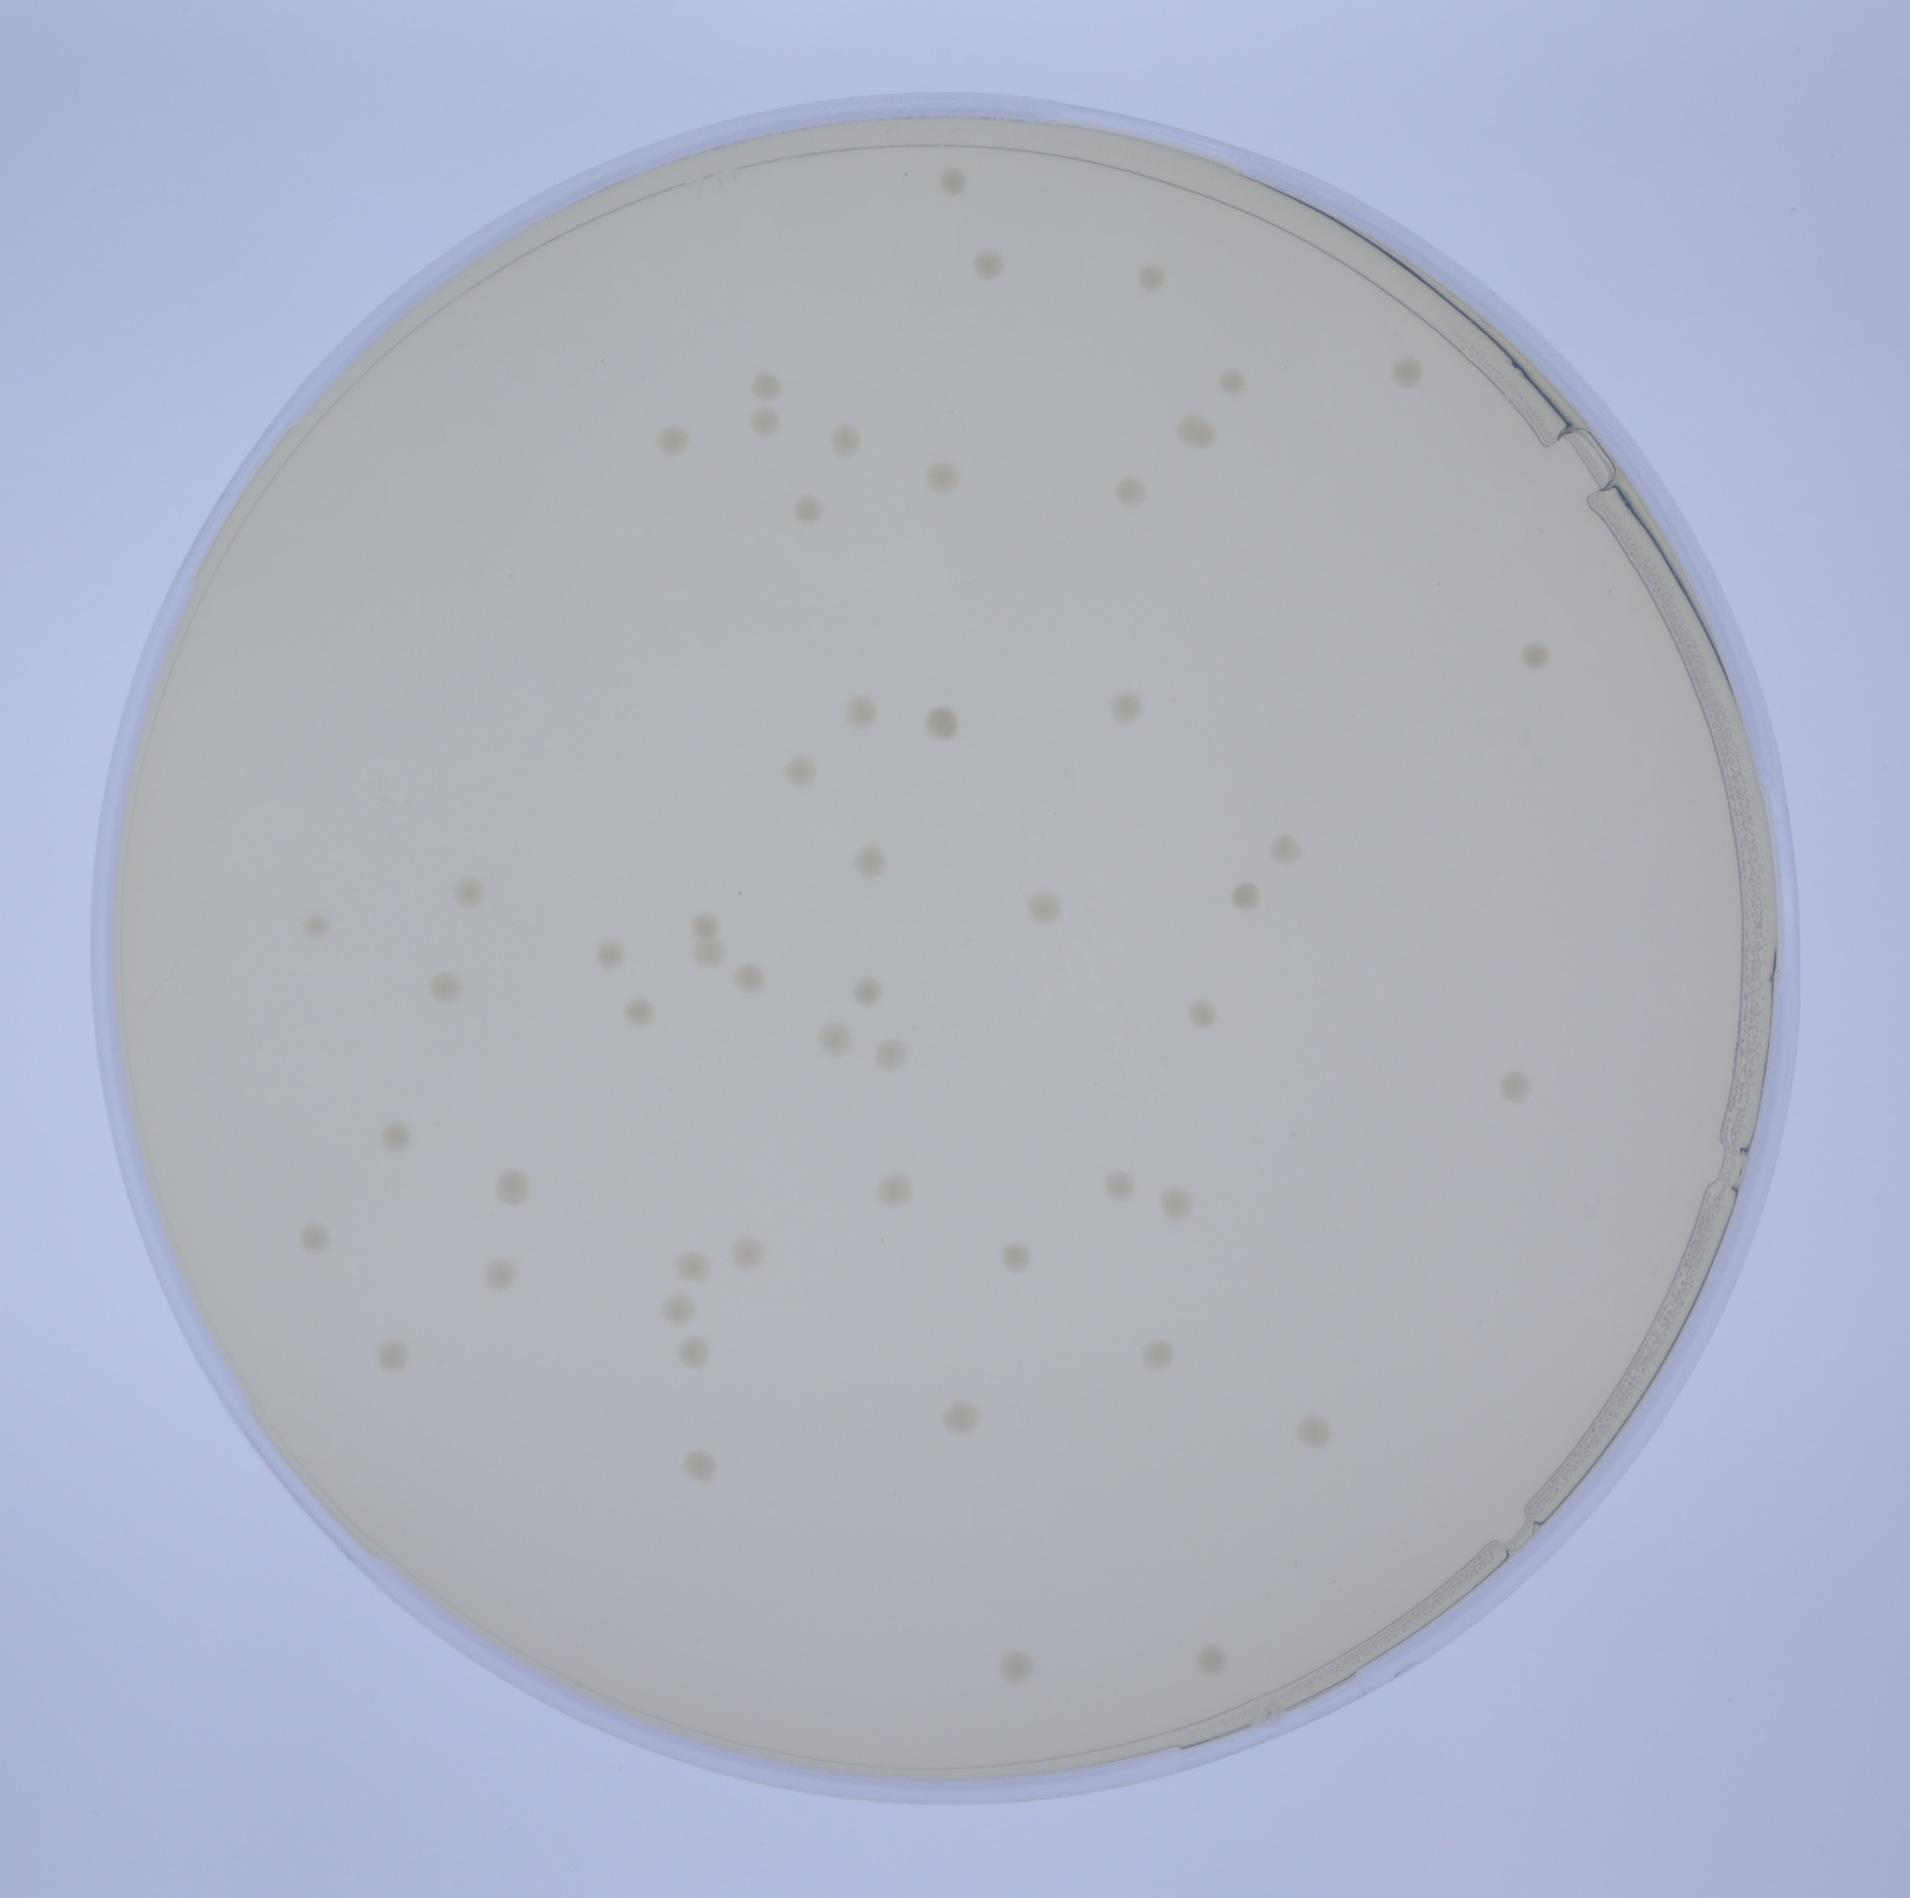colony: (1259, 823, 1317, 873), (1020, 879, 1072, 932), (847, 837, 899, 889), (872, 1165, 920, 1219), (992, 1238, 1049, 1283), (1171, 405, 1219, 458), (491, 1160, 538, 1211), (1220, 866, 1269, 913), (933, 1392, 984, 1437), (839, 686, 887, 733), (1172, 991, 1226, 1032), (1288, 1410, 1332, 1459), (921, 699, 967, 745), (1491, 1059, 1536, 1105), (870, 1032, 913, 1079), (918, 454, 968, 494), (687, 931, 733, 974), (1152, 1183, 1200, 1224), (1134, 1336, 1183, 1375), (1516, 635, 1560, 678), (725, 1230, 772, 1270), (375, 1117, 418, 1160), (970, 243, 1010, 289), (671, 1245, 720, 1282), (1099, 1164, 1143, 1205), (743, 398, 785, 440), (826, 418, 866, 462), (675, 1334, 719, 1374), (481, 1256, 527, 1294), (748, 364, 789, 405), (424, 967, 465, 1008), (814, 1019, 855, 1060), (448, 874, 492, 912), (1193, 1636, 1231, 1680), (1106, 687, 1147, 727), (1215, 362, 1254, 404), (370, 1335, 412, 1374), (778, 750, 818, 790), (591, 936, 630, 977), (686, 904, 725, 945), (677, 1443, 715, 1485), (622, 993, 661, 1033), (847, 971, 887, 1010), (930, 163, 972, 199), (660, 1290, 702, 1326), (788, 490, 827, 528), (1387, 353, 1426, 391), (297, 1225, 340, 1258), (1134, 258, 1172, 295), (1114, 471, 1150, 510), (654, 421, 692, 457), (999, 1644, 1034, 1683), (731, 958, 766, 993), (296, 912, 337, 940)
